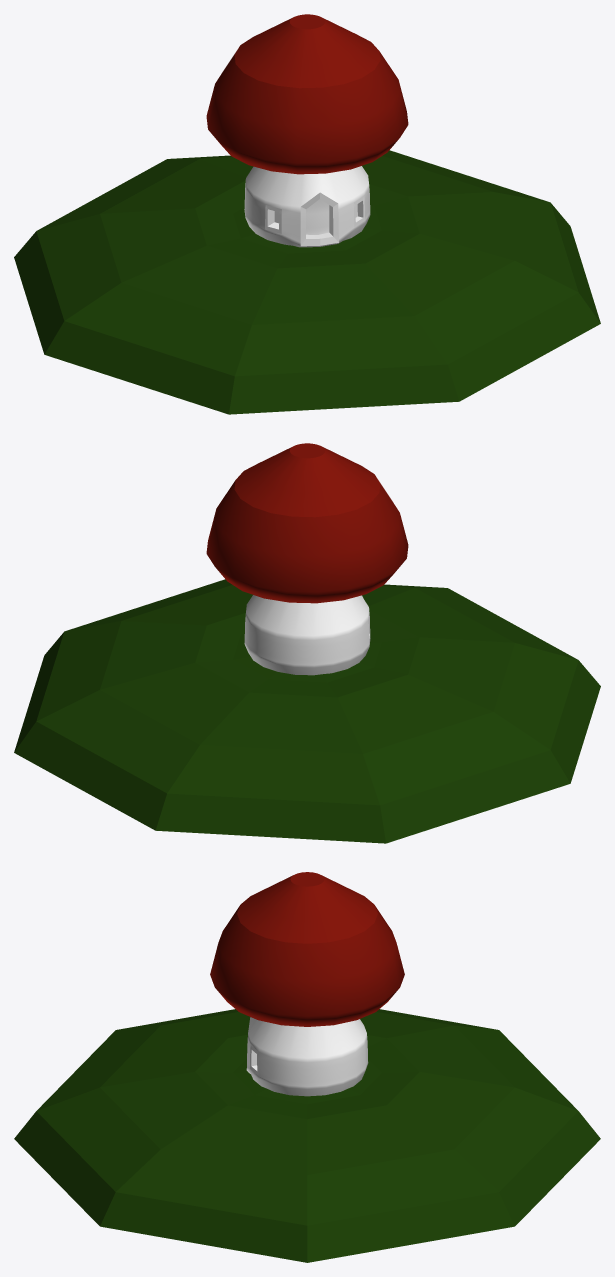
Rendered from mushroomhill.fbx.
3 views of the same model, one above another, from view 1: azimuth 30°, elevation 25°; view 2: azimuth 150°, elevation 25°; view 3: azimuth 270°, elevation 25° (orthographic). The views are drawn at different scales.
Visible parts, largest first — view 1: pCylinder3; view 2: pCylinder3; view 3: pCylinder3.
Boxes of the visible parts, x1,y1,x2,y2 form: pCylinder3: (14, 14, 600, 414); pCylinder3: (14, 443, 600, 843); pCylinder3: (14, 872, 600, 1262).
Bounding box in the file's own units: 627 × 306 × 627.
